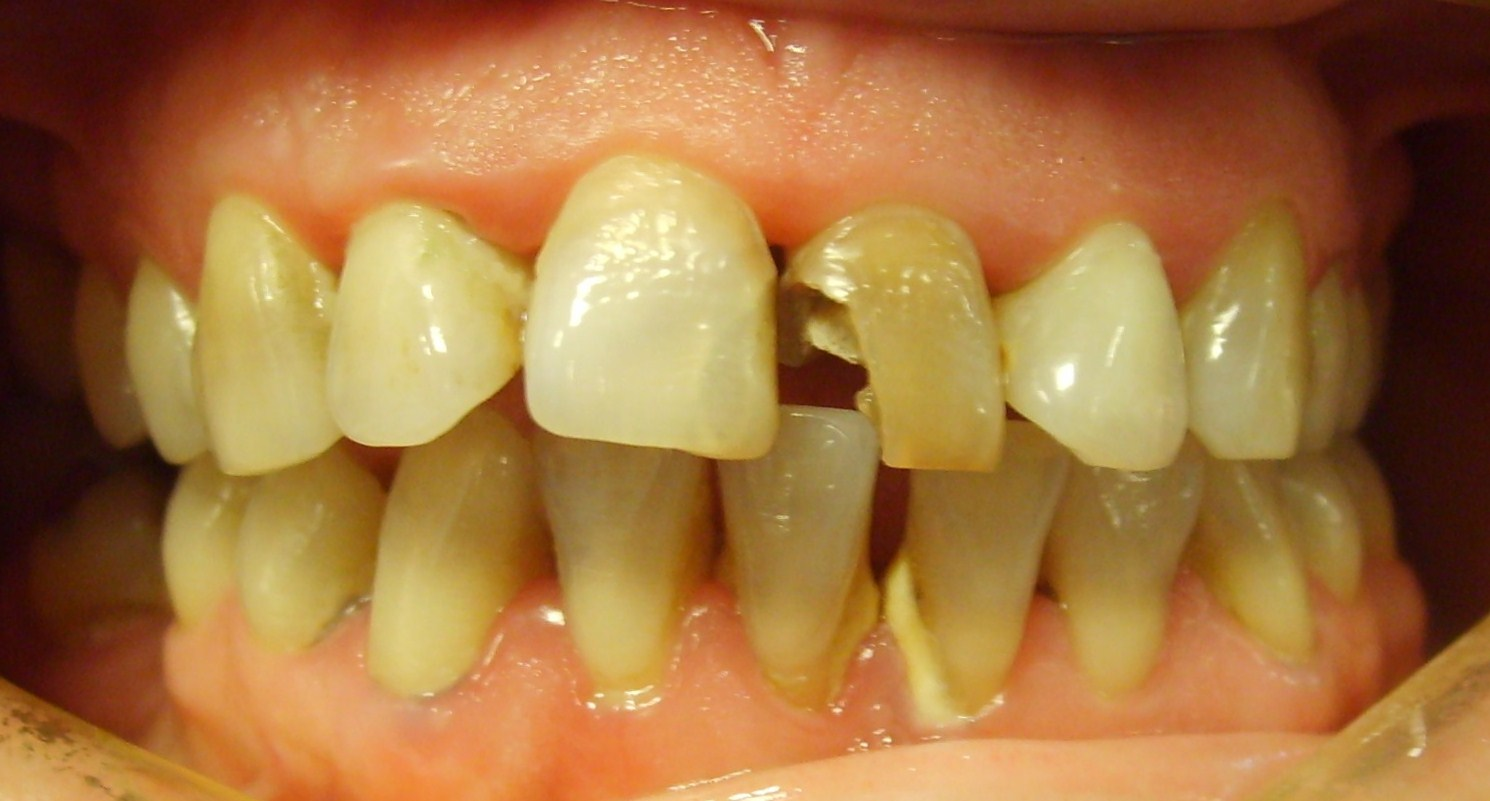LL1BC_healthy: (1290, 458, 1406, 606)
LLCI_decay: (903, 438, 1043, 719)
LLC_healthy: (1192, 448, 1329, 685)
LLLI_healthy: (1058, 450, 1192, 695)
LR1BC_healthy: (234, 464, 382, 635)
LR2BC_healthy: (166, 464, 240, 630)
LRCI_healthy: (717, 432, 884, 711)
LRC_healthy: (364, 425, 553, 711)
LRLI_healthy: (548, 443, 713, 722)
UL1BC_healthy: (1314, 287, 1369, 440)
ULCI_decay: (796, 211, 1011, 490)
ULC_healthy: (1192, 212, 1319, 454)
ULLI_healthy: (1011, 206, 1190, 477)
UR1BC_healthy: (122, 275, 208, 467)
URCI_healthy: (519, 162, 795, 446)
URC_healthy: (190, 206, 351, 472)
URLI_healthy: (325, 203, 530, 446)
